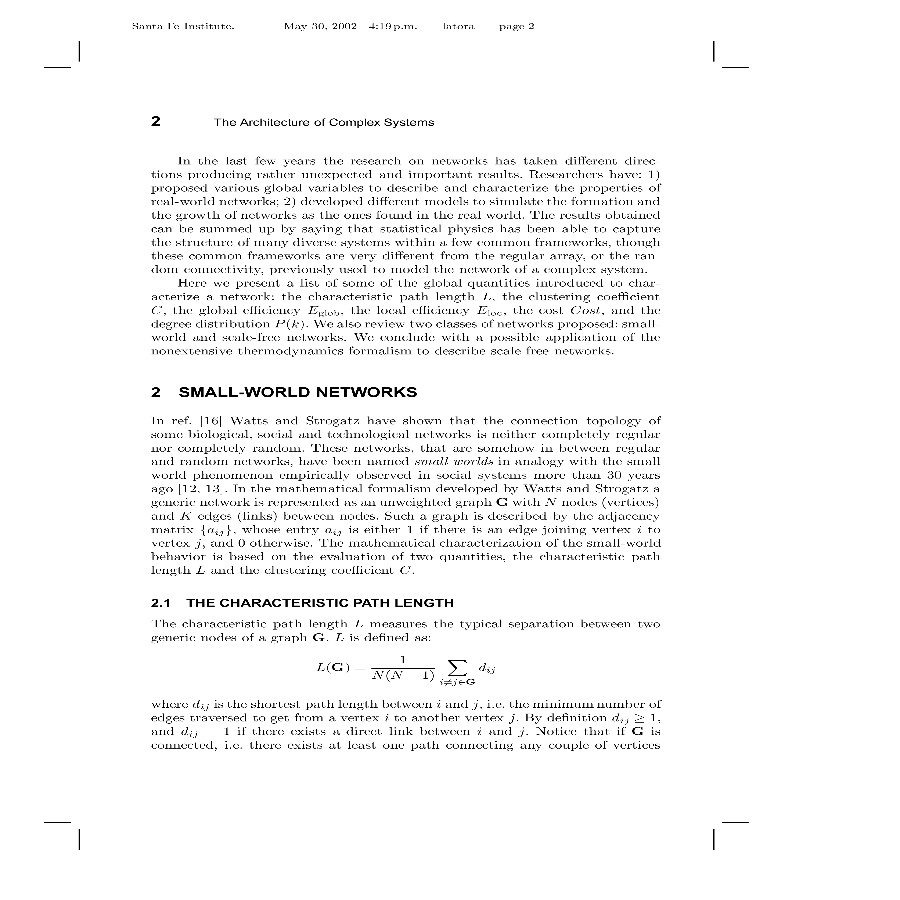eq: (314, 649, 506, 693)
